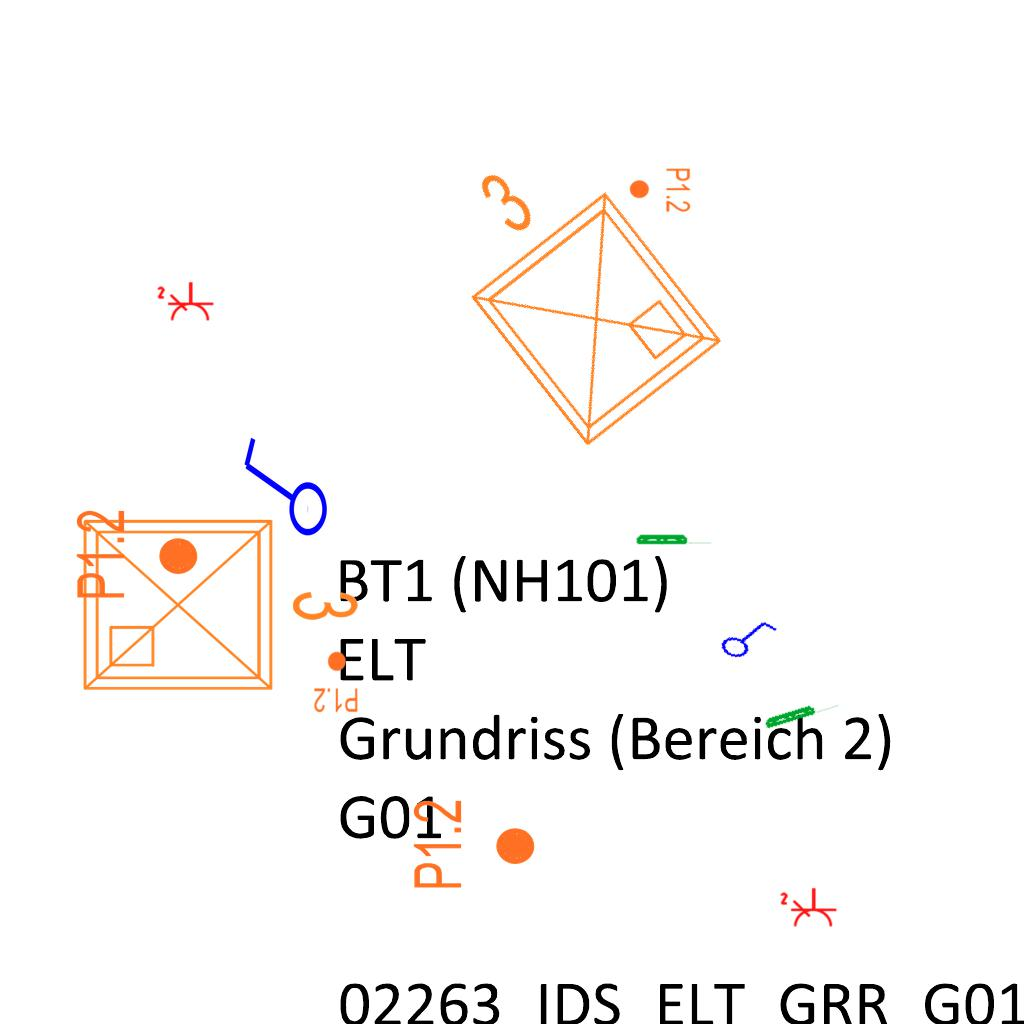Ausschalter: (234, 435, 330, 547), (713, 606, 781, 668)
Downlight_LED_Einbauleuchten_Flur: (410, 798, 538, 891), (73, 508, 201, 601), (628, 167, 692, 213), (313, 650, 359, 714)
Einbaudownlights_LED_Konferenzraeume: (393, 106, 743, 472), (69, 497, 369, 705)
Schukosteckdose_mehrfach: (779, 885, 839, 929), (156, 279, 216, 323)
Sicherheitsleuchte_Wandeinbau: (762, 695, 842, 730), (635, 533, 714, 545)
